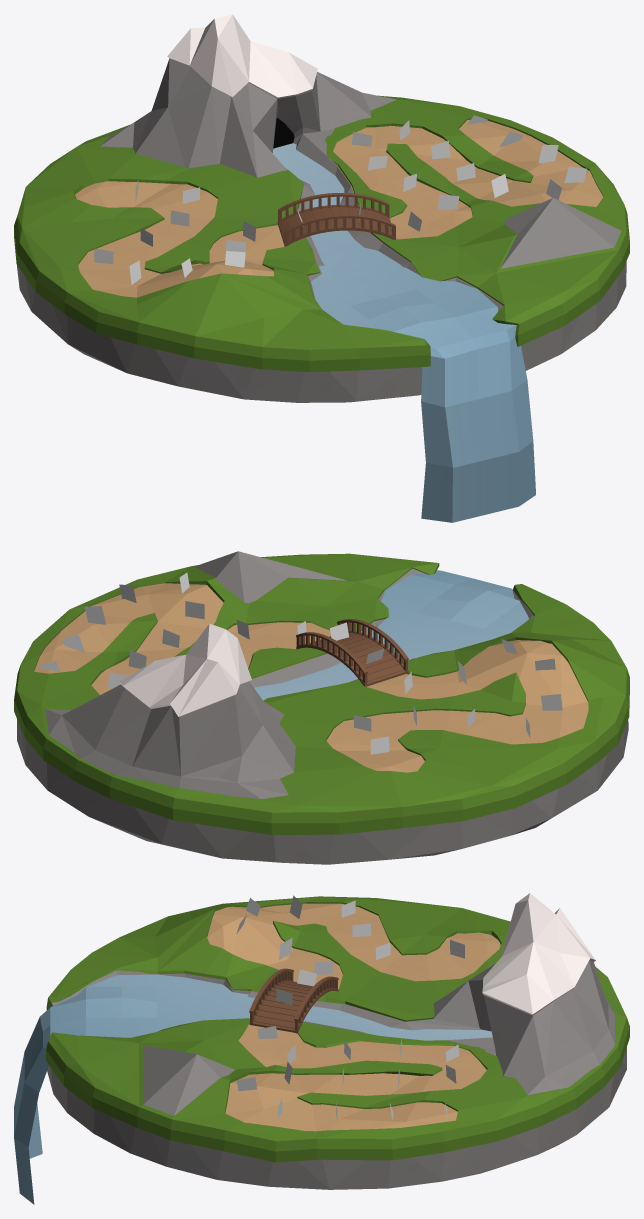
The model's file is Landscape.fbx.
3 renders of one model, top to bottom at view 1: azimuth 30°, elevation 25°; view 2: azimuth 150°, elevation 25°; view 3: azimuth 270°, elevation 25°, orthographic. The views are drawn at different scales.
Parts seen in each view (by area): view 1: Cylinder.002, Bridge.001; view 2: Cylinder.002, Bridge.001; view 3: Cylinder.002, Bridge.001.
Part boxes in pixels (x1,y1,x2,y2): Cylinder.002: (14,14,629,522); Bridge.001: (277,193,396,246); Cylinder.002: (14,551,629,864); Bridge.001: (296,619,408,686); Cylinder.002: (14,893,629,1204); Bridge.001: (249,968,338,1033).
Bounding box in the file's own units: 200 × 108 × 211.
